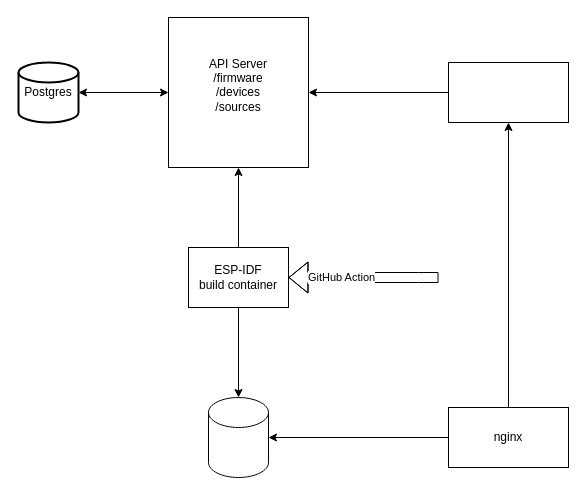
This 586x495 diagram has some shape labels left out. Here are the shapes that lost their labels. From the top down, the centre of each, then its label:
At [508,92]: "React frontend".
At [238,437]: "Binary storage".
